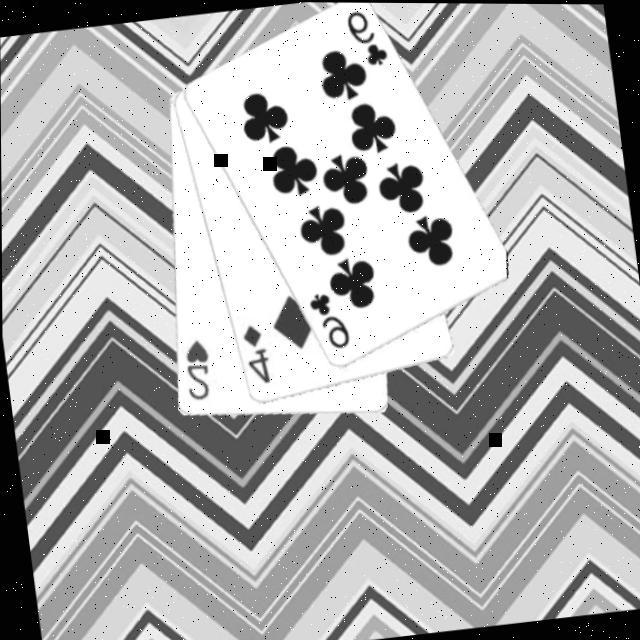2H: (178, 334, 216, 403)
4D: (238, 318, 275, 387)
9C: (305, 285, 354, 353), (344, 2, 393, 70)
